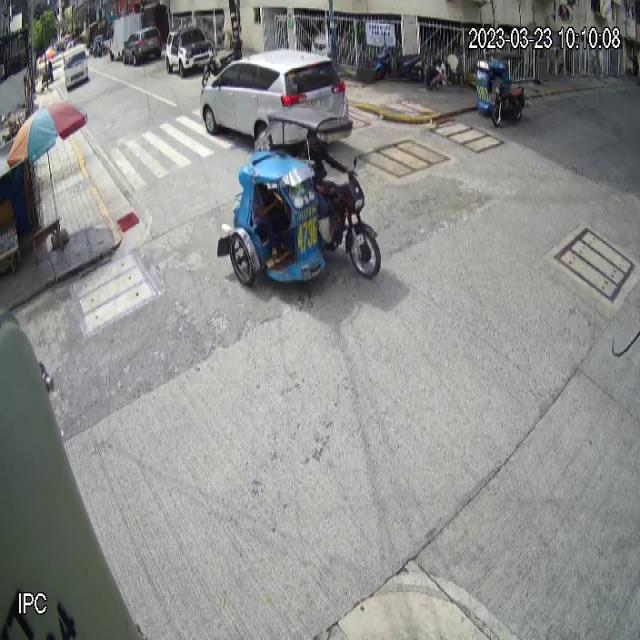Car: (200, 46, 350, 148)
Tricycle: (219, 112, 382, 290), (475, 59, 526, 128)
